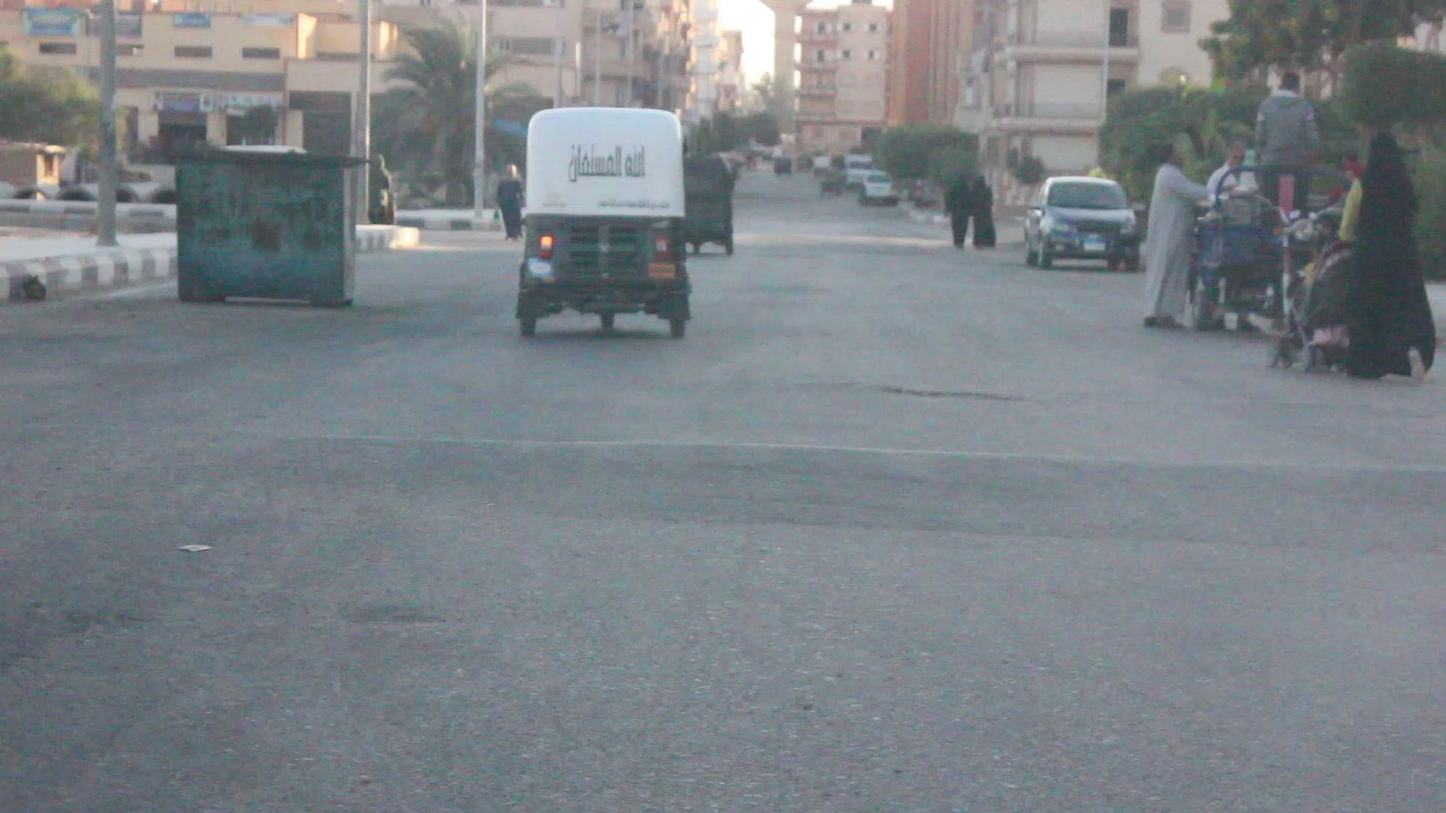Bump: (8, 380, 1446, 583)
